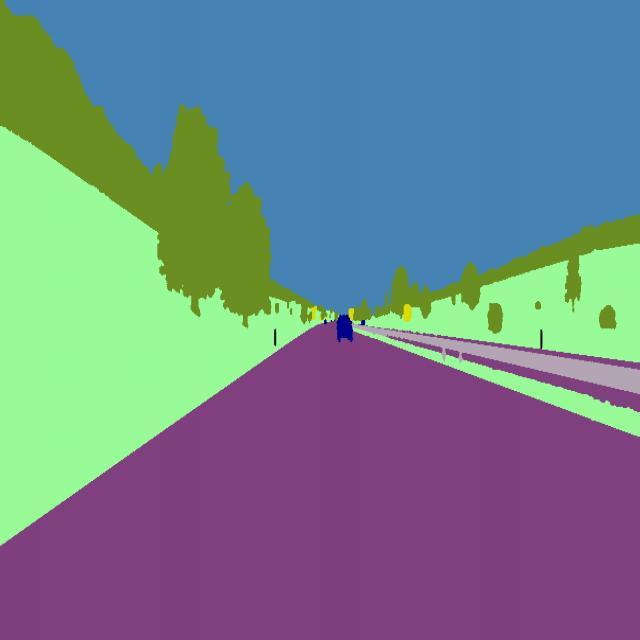safe: (333, 313, 356, 347)
